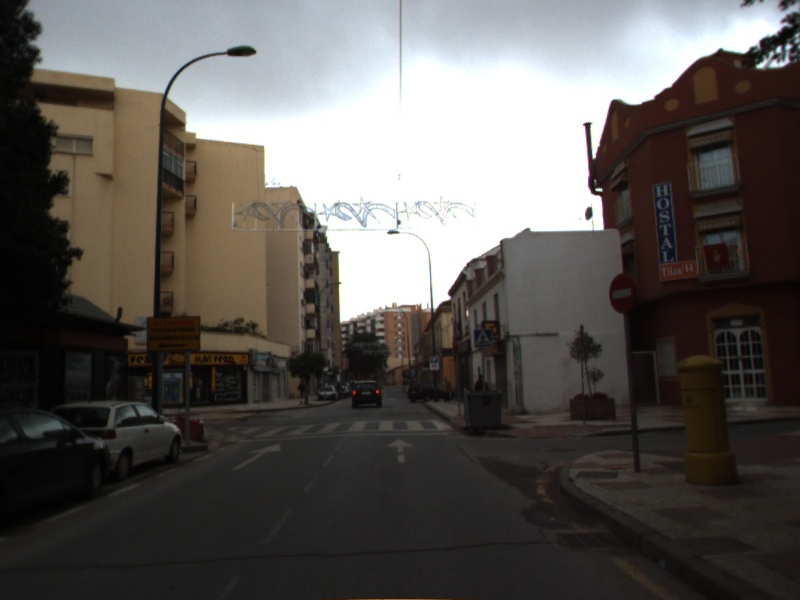STRAIGHT: (230, 441, 283, 472), (384, 436, 417, 465)
